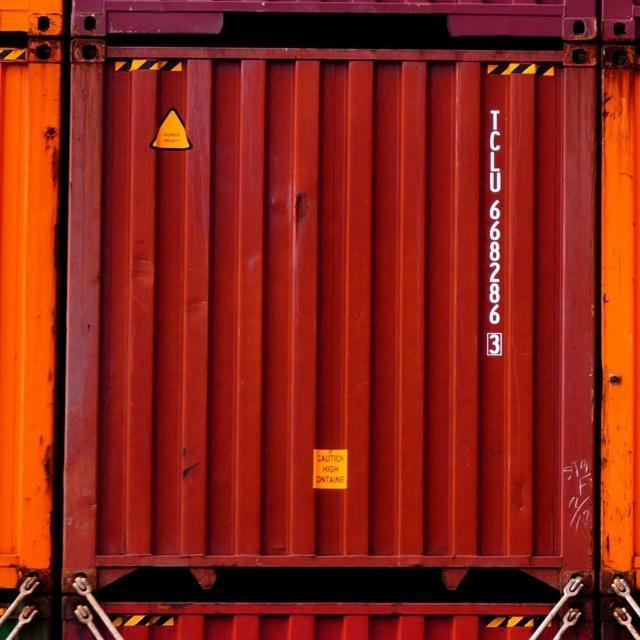container_number: (487, 107, 507, 366)
